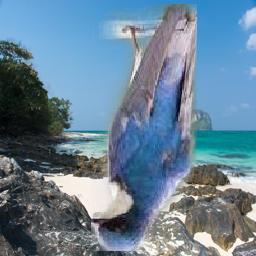Swallow: (91, 5, 197, 252)
